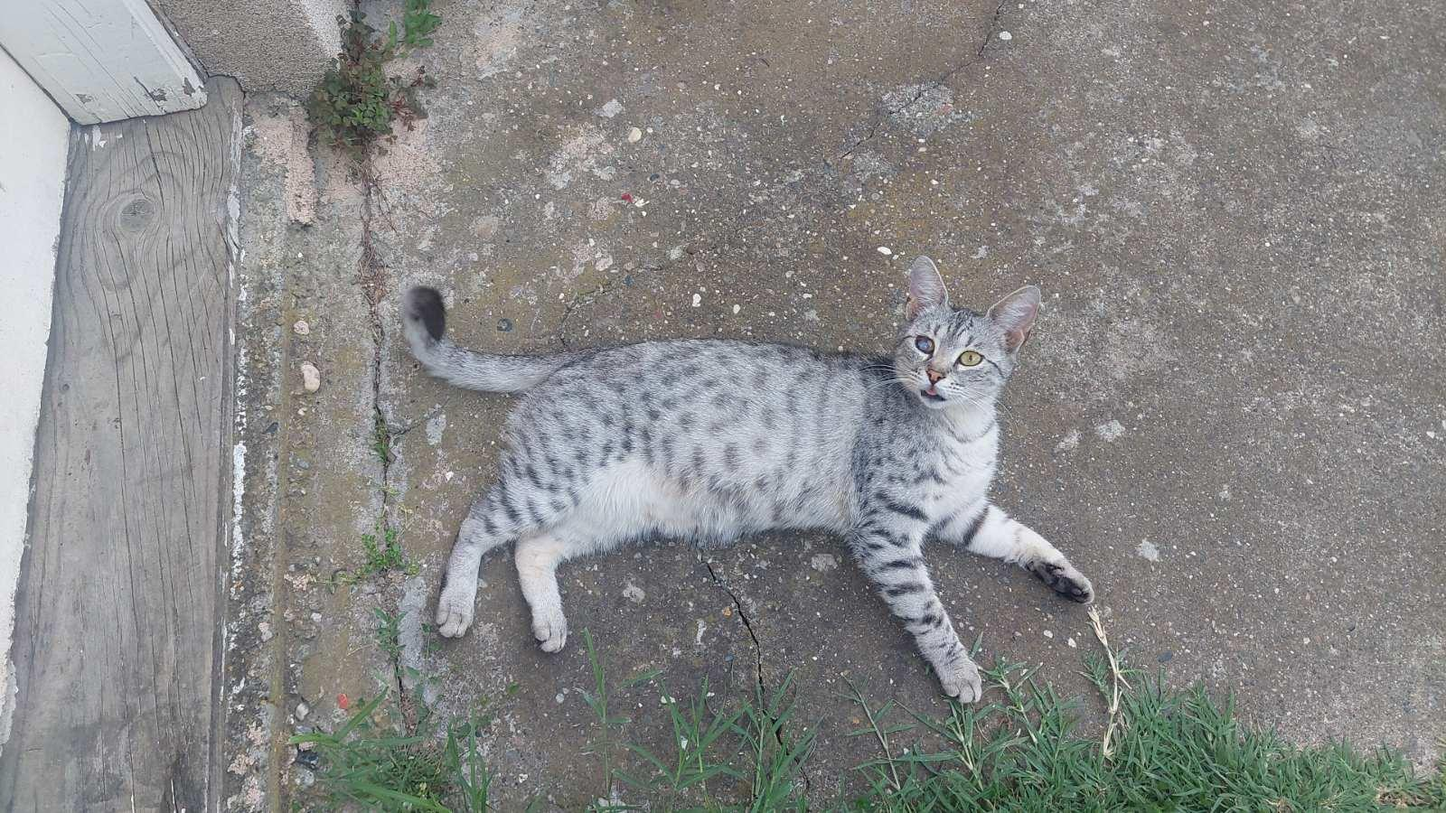macka: (399, 250, 1098, 713)
